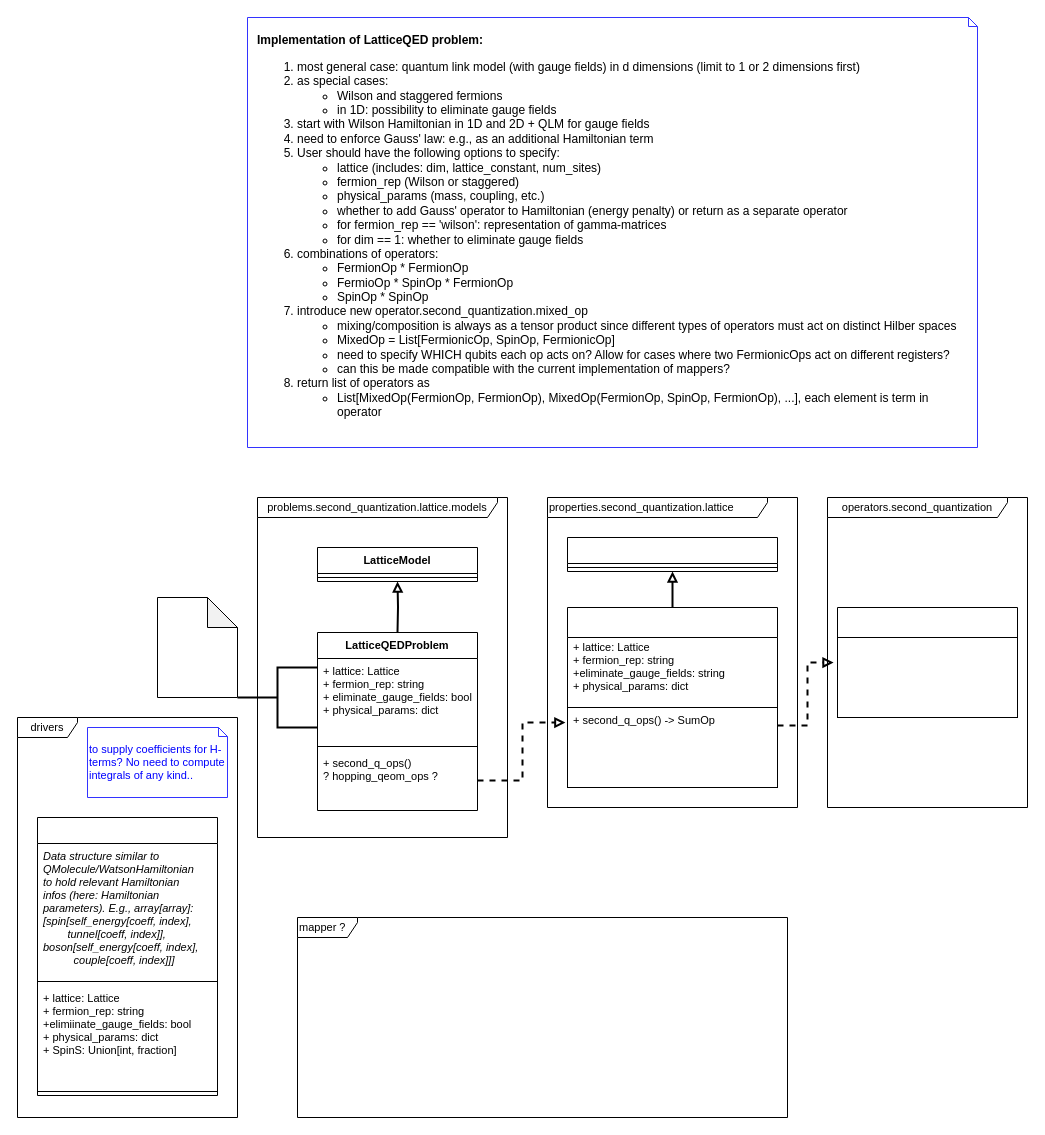
Image size: 1045x1135. Some labels were removed from this diagram. Each missing label, with the box of its shape:
collect all these in container --> driver?: (156, 596, 238, 698)
LatticeGaugeModel: (36, 816, 218, 1096)
LatticeQEDEnergy: (566, 606, 778, 788)
MixedOp: (836, 606, 1018, 718)
SecondQuantizedProperty: (566, 536, 778, 572)
